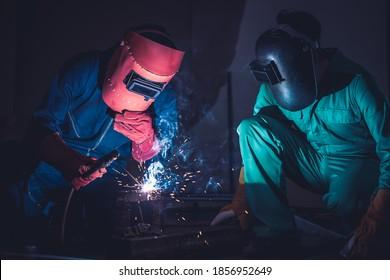gloves: (38, 131, 106, 189), (338, 186, 390, 260), (209, 164, 251, 231), (114, 110, 161, 161)
